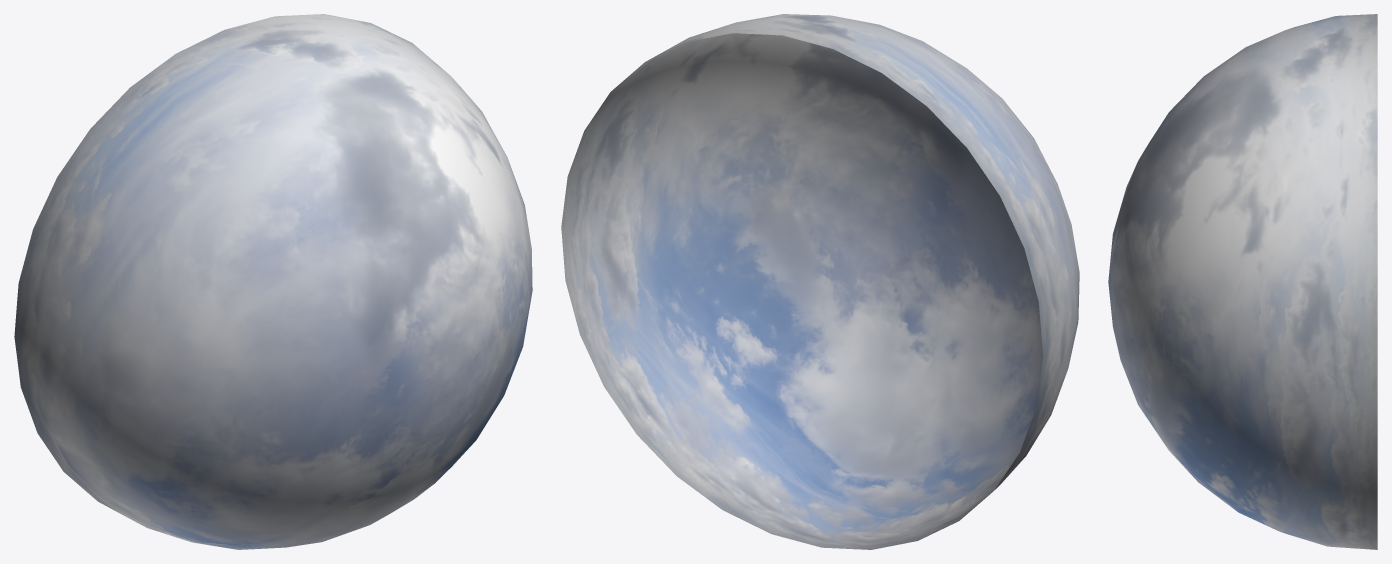
Rendered from sky_normal_res.obj.
3 views of the same model, side by side, from view 1: azimuth 30°, elevation 25°; view 2: azimuth 150°, elevation 25°; view 3: azimuth 270°, elevation 25° (orthographic). The views are drawn at different scales.
Parts seen in each view (by area): view 1: (null); view 2: (null); view 3: (null).
Part boxes in pixels (x1=…): (null): x1=14, y1=14, x2=532, y2=549; (null): x1=561, y1=14, x2=1079, y2=549; (null): x1=1108, y1=14, x2=1377, y2=549.
Size of the model in its own units: 200 by 199 by 100.
1 material, 1 textured.
